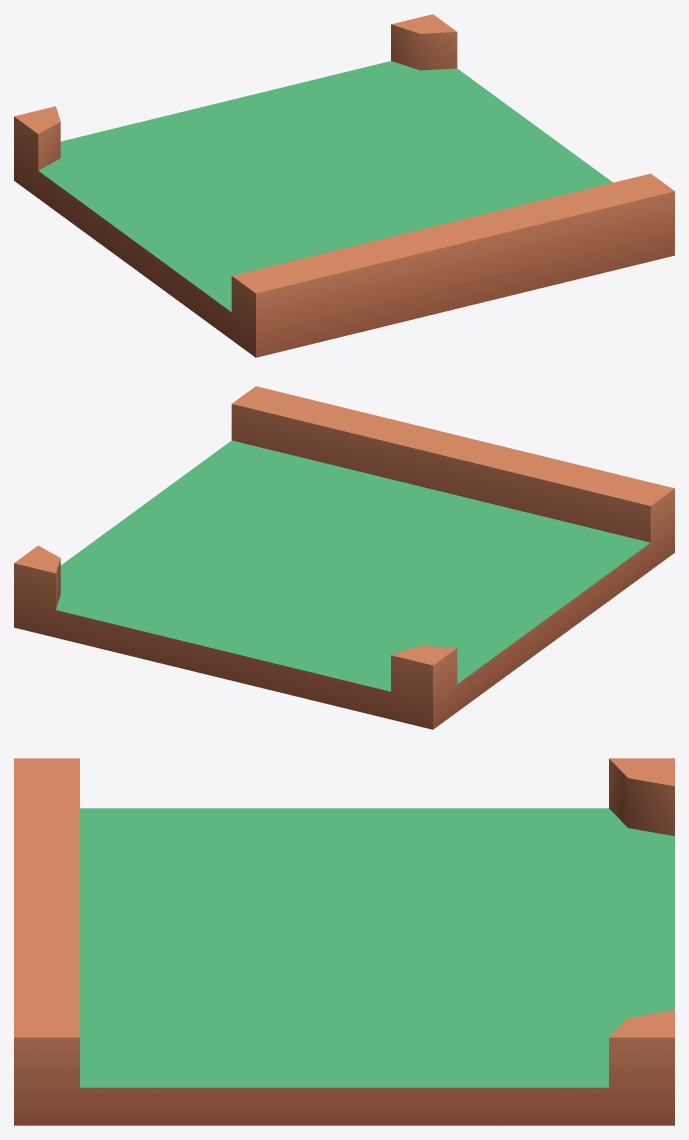
The model's file is split-t.glb.
The picture shows the model from 3 angles, top to bottom: view 1: azimuth 30°, elevation 25°; view 2: azimuth 150°, elevation 25°; view 3: azimuth 270°, elevation 25°; orthographic projection. The views are drawn at different scales.
Parts seen in each view (by area): view 1: split-t; view 2: split-t; view 3: split-t.
Part boxes in pixels (x1,y1,x2,y2): split-t: [14, 14, 674, 357]; split-t: [14, 386, 674, 729]; split-t: [14, 758, 674, 1125].
Size of the model in its own units: 0.9999 by 0.1467 by 0.9999.
1 material, 1 textured.
